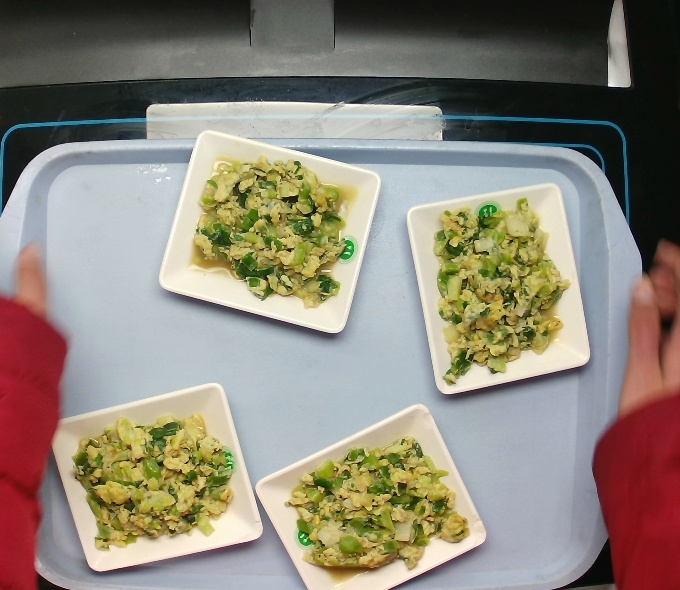wcq-SuanMiaoChaoDan: (275, 427, 481, 581), (179, 151, 355, 326), (424, 193, 578, 391), (75, 406, 239, 558)
